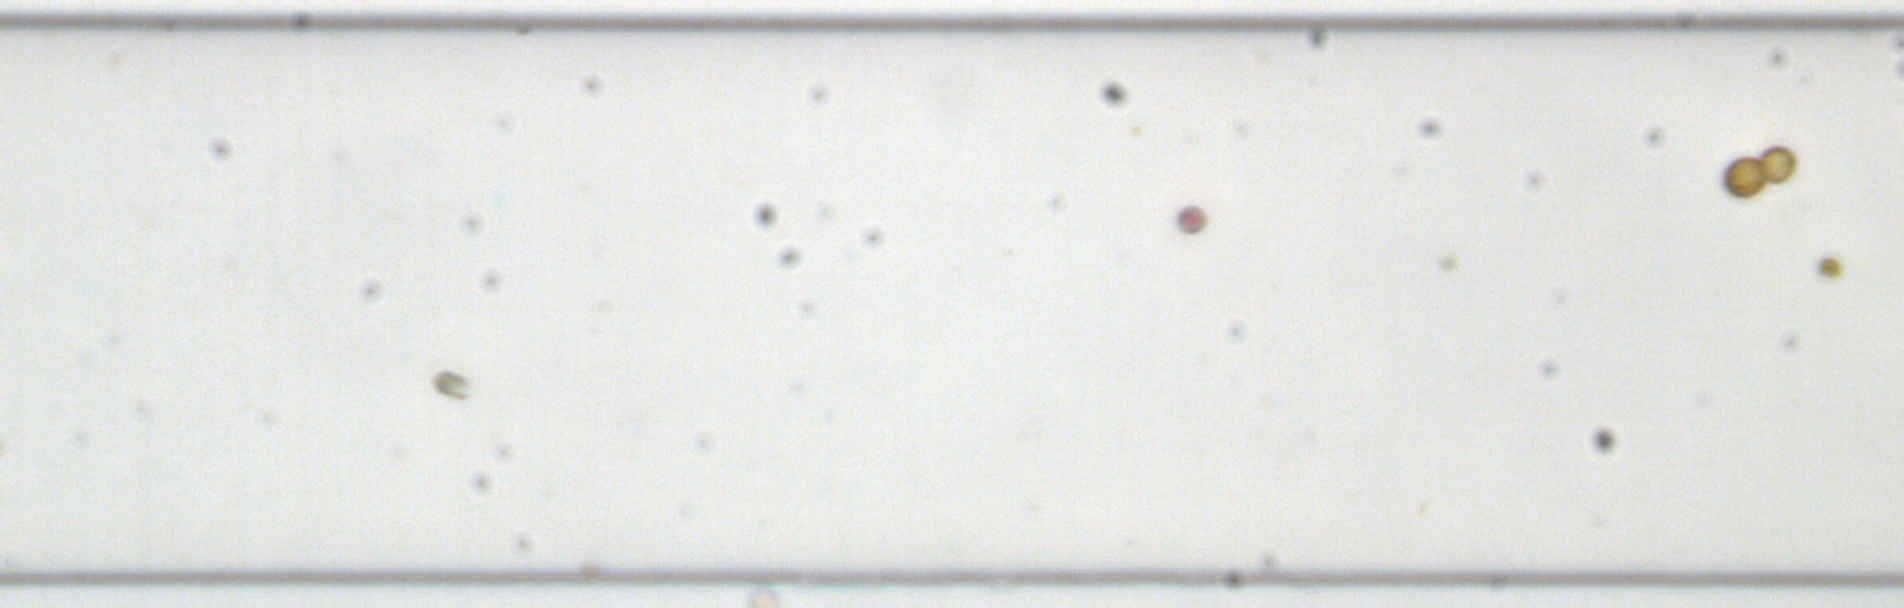Chlorella: (1814, 254, 1842, 280), (1436, 252, 1456, 272)
Dunaliella salina: (429, 368, 470, 400)
Effrenium: (1719, 154, 1768, 200), (1756, 143, 1796, 184)
Porphyridium: (1173, 203, 1208, 235)
